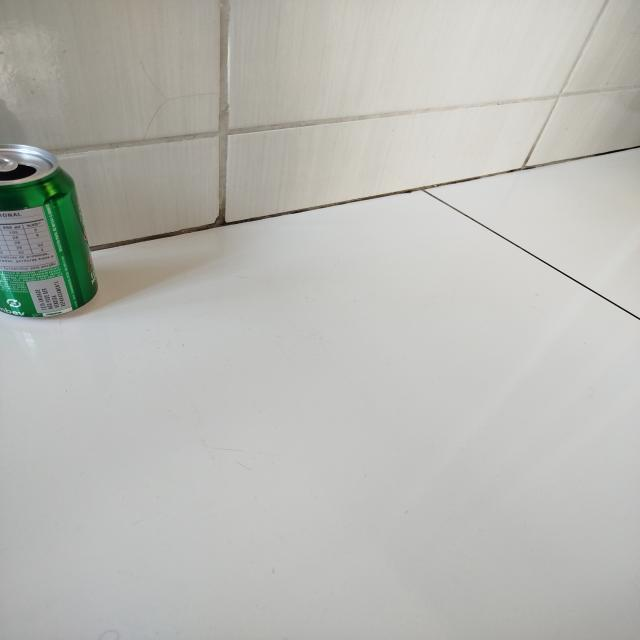Guarana: (0, 143, 100, 316)
